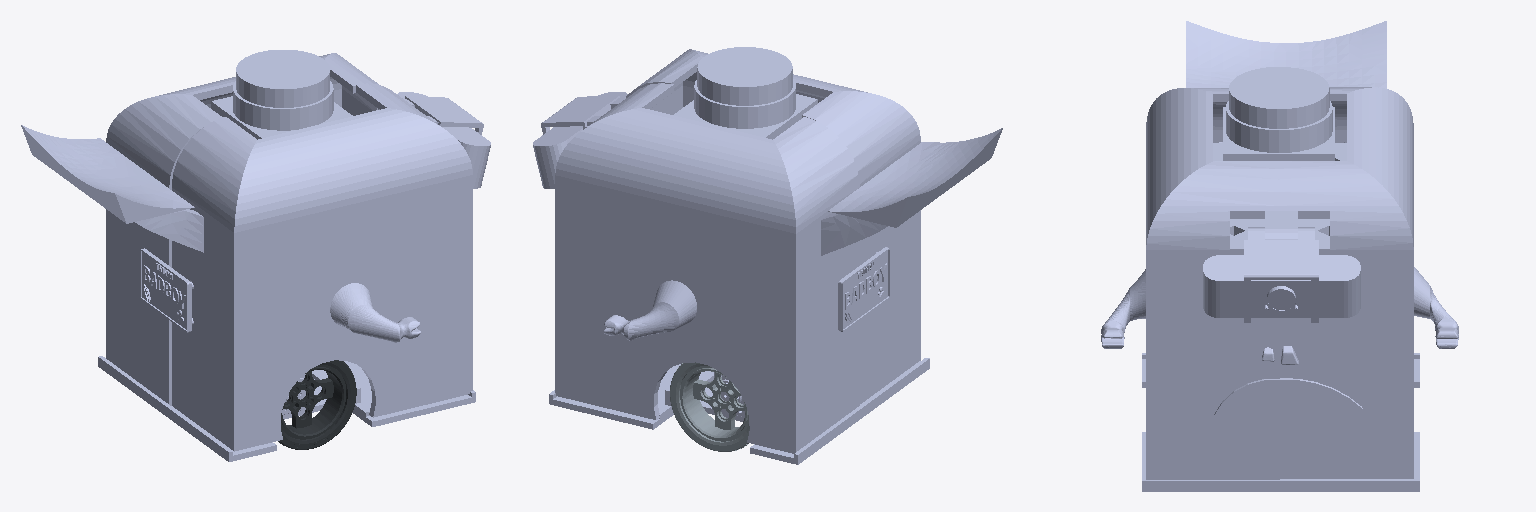
URDF robot description (組合件1.SLDASM):
<?xml version="1.0" encoding="utf-8"?>
<!-- This URDF was automatically created by SolidWorks to URDF Exporter! Originally created by Stephen Brawner (brawner@gmail.com) 
     Commit Version: 1.6.0-4-g7f85cfe  Build Version: 1.6.7995.38578
     For more information, please see http://wiki.ros.org/sw_urdf_exporter -->
<robot
  name="組合件1.SLDASM">
  <link
    name="base_link">
    <inertial>
      <origin
        xyz="-0.0157049775893594 -1.07573699920716 0.00901006331799033"
        rpy="0 0 0" />
      <mass
        value="4.68377084270823" />
      <inertia
        ixx="0.0070998538723502"
        ixy="2.47010899364694E-06"
        ixz="-3.91237973608519E-05"
        iyy="0.0110826789999964"
        iyz="-4.43733340319763E-08"
        izz="0.0121317469183278" />
    </inertial>
    <visual>
      <origin
        xyz="0 0 0"
        rpy="0 0 0" />
      <geometry>
        <mesh
          filename="package://組合件1.SLDASM/meshes/base_link.STL" />
      </geometry>
      <material
        name="">
        <color
          rgba="0.792156862745098 0.819607843137255 0.933333333333333 1" />
      </material>
    </visual>
    <collision>
      <origin
        xyz="0 0 0"
        rpy="0 0 0" />
      <geometry>
        <mesh
          filename="package://組合件1.SLDASM/meshes/base_link.STL" />
      </geometry>
    </collision>
  </link>
  <link
    name="left_wheel_Link">
    <inertial>
      <origin
        xyz="0.00978424359831997 8.86679301231874E-08 -1.51592238159526E-06"
        rpy="0 0 0" />
      <mass
        value="0.0298805023519677" />
      <inertia
        ixx="2.12913595127045E-05"
        ixy="5.25622601393167E-09"
        ixz="4.60517243236408E-12"
        iyy="1.14282996535033E-05"
        iyz="-4.30506415727038E-10"
        izz="1.14403527575E-05" />
    </inertial>
    <visual>
      <origin
        xyz="0 0 0"
        rpy="0 0 0" />
      <geometry>
        <mesh
          filename="package://組合件1.SLDASM/meshes/left_wheel_Link.STL" />
      </geometry>
      <material
        name="">
        <color
          rgba="0.603921568627451 0.647058823529412 0.686274509803922 1" />
      </material>
    </visual>
    <collision>
      <origin
        xyz="0 0 0"
        rpy="0 0 0" />
      <geometry>
        <mesh
          filename="package://組合件1.SLDASM/meshes/left_wheel_Link.STL" />
      </geometry>
    </collision>
  </link>
  <joint
    name="left_wheel_joint"
    type="continuous">
    <origin
      xyz="-0.0363449839531719 -1.0098106835643 -0.0894530588923699"
      rpy="1.5707963267949 0 -1.5707963267949" />
    <parent
      link="base_link" />
    <child
      link="left_wheel_Link" />
    <axis
      xyz="1 0 0" />
  </joint>
  <link
    name="right_wheel_Link">
    <inertial>
      <origin
        xyz="-1.51592237033343E-06 8.86679334261009E-08 0.00851575640168067"
        rpy="0 0 0" />
      <mass
        value="0.0298805023519675" />
      <inertia
        ixx="1.14403527575E-05"
        ixy="-4.3050641569065E-10"
        ixz="-4.60517260801647E-12"
        iyy="1.14282996535032E-05"
        iyz="-5.25622601389982E-09"
        izz="2.12913595127045E-05" />
    </inertial>
    <visual>
      <origin
        xyz="0 0 0"
        rpy="0 0 0" />
      <geometry>
        <mesh
          filename="package://組合件1.SLDASM/meshes/right_wheel_Link.STL" />
      </geometry>
      <material
        name="">
        <color
          rgba="0.262745098039216 0.282352941176471 0.301960784313725 1" />
      </material>
    </visual>
    <collision>
      <origin
        xyz="0 0 0"
        rpy="0 0 0" />
      <geometry>
        <mesh
          filename="package://組合件1.SLDASM/meshes/right_wheel_Link.STL" />
      </geometry>
    </collision>
  </link>
  <joint
    name="right_wheel_joint"
    type="continuous">
    <origin
      xyz="-0.0363449839531717 -1.12293168824014 -0.08945305889237"
      rpy="-1.5707963267949 0 3.14159265358979" />
    <parent
      link="base_link" />
    <child
      link="right_wheel_Link" />
    <axis
      xyz="0 0 1" />
  </joint>
</robot>

--- What the picture shows (computed from the rendered views, not written in the file) ---
Views: 3 orthographic renders of the robot side by side, from view 1: azimuth 30°, elevation 25°; view 2: azimuth 150°, elevation 25°; view 3: azimuth 270°, elevation 25°.
Model 組合件1.SLDASM with 3 links and 2 joints (2 continuous), rooted at base_link, posed all joints at 0.
Links seen in each view (by area): view 1: base_link, right_wheel_Link; view 2: base_link, left_wheel_Link; view 3: base_link.
Link boxes in pixels (x1,y1,x2,y2): base_link: (21,50,490,461); right_wheel_Link: (278,360,356,449); base_link: (533,47,1002,464); left_wheel_Link: (670,362,749,451); base_link: (1101,21,1458,491).
Size in the robot's own frame: 0.2901 by 0.2135 by 0.2366 metres.
Meshes: 3 distinct files referenced, 3 mesh visuals loaded (3 binary STL).
